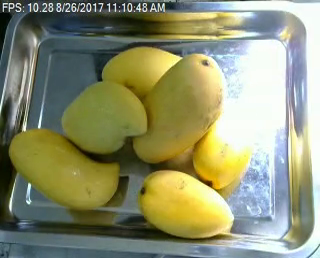Mango: (126, 54, 226, 169), (8, 124, 121, 213), (62, 78, 149, 159), (138, 170, 235, 238), (189, 107, 257, 183), (97, 44, 184, 94)
